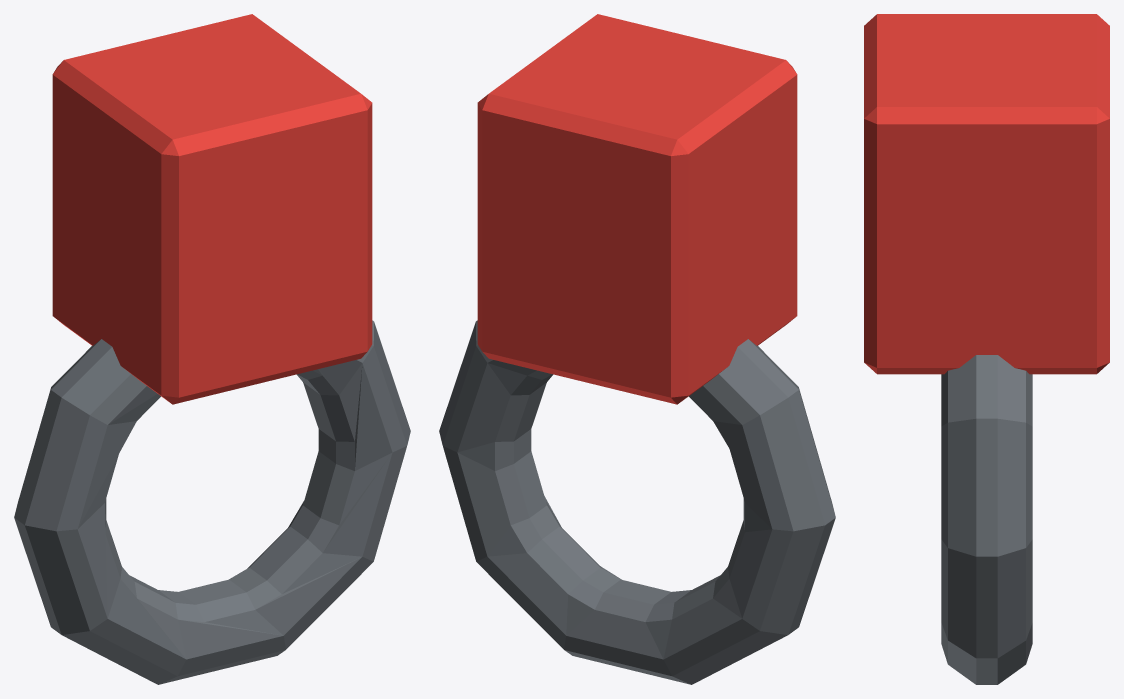
The model's file is crane_hook.glb.
The picture shows the model from 3 angles, left to right: view 1: azimuth 30°, elevation 25°; view 2: azimuth 150°, elevation 25°; view 3: azimuth 270°, elevation 25°; orthographic projection.
Parts seen in each view (by area): view 1: crane_hook; view 2: crane_hook; view 3: crane_hook.
Boxes of the visible parts, x1,y1,x2,y2 form: crane_hook: (14, 14, 410, 684); crane_hook: (439, 14, 835, 684); crane_hook: (864, 14, 1109, 684).
Size of the model in its own units: 0.1372 by 0.2003 by 0.075.
